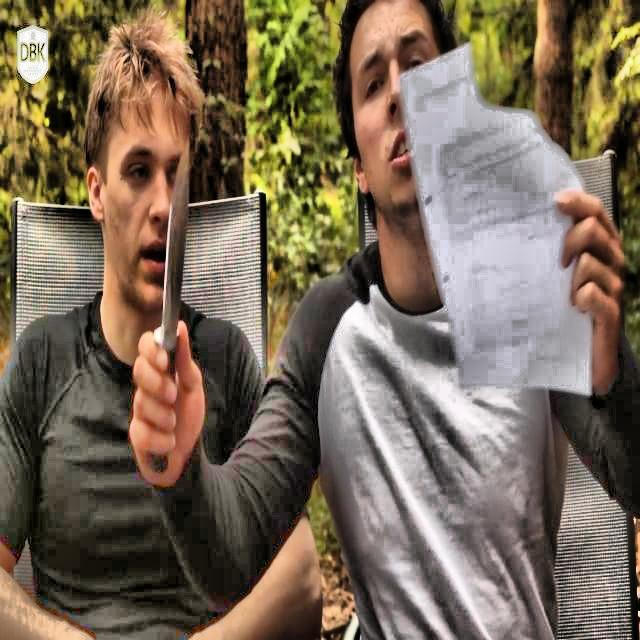knife: (148, 203, 173, 475)
